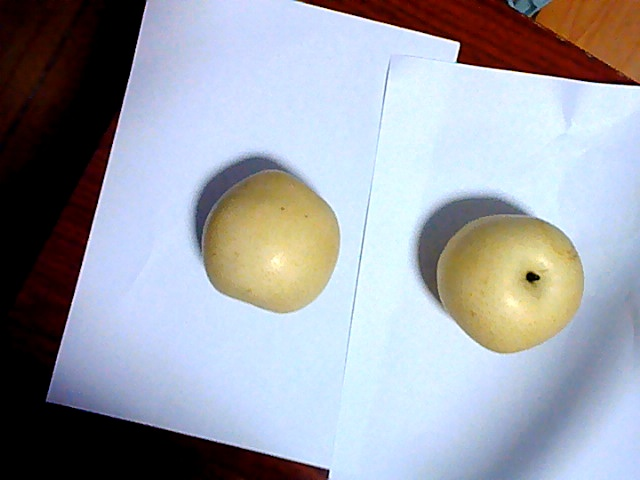pear: (435, 209, 582, 352), (199, 179, 341, 317)
